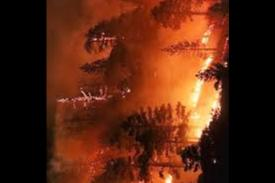fire: (157, 0, 229, 183)
